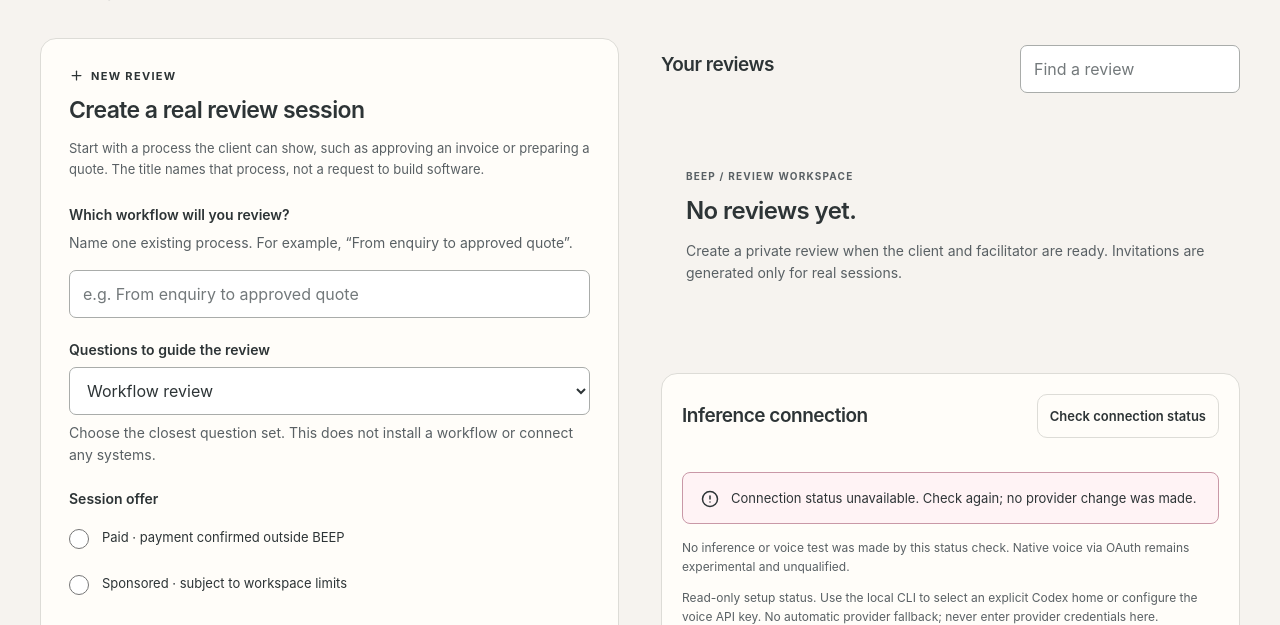
Scenario: private operator actions › requires an explicit paid confirmation, creates via API, and verifies the created session
This screenshot has width=1280, height=625.
In the field labelled "Which workflow will you review?": [330, 294] box 69,270 -> 590,318, type "Quote review"
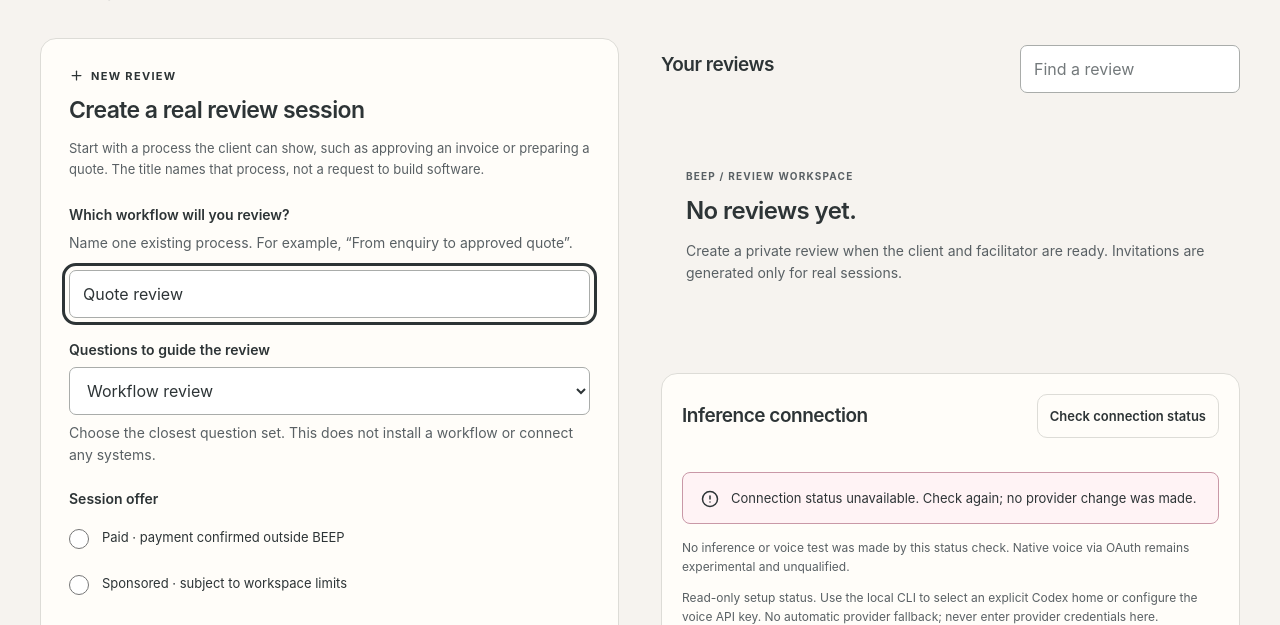
Click the radio button labelled "Paid · payment confirmed outside BEEP": [79, 539] box 69,529 -> 89,549
(page scrolled)
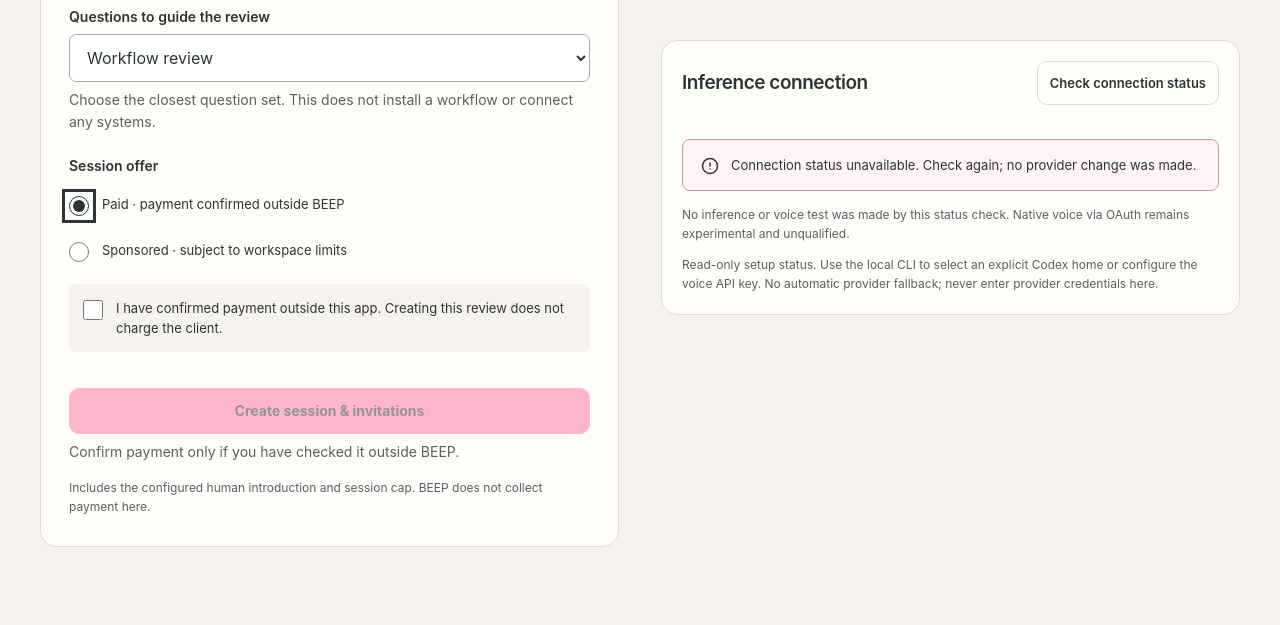
Expected: the button "Create session & invitations" is disabled, 69,388 -> 590,434
Click the checkbox labelled "I have confirmed payment": [93, 310] box 83,300 -> 103,320
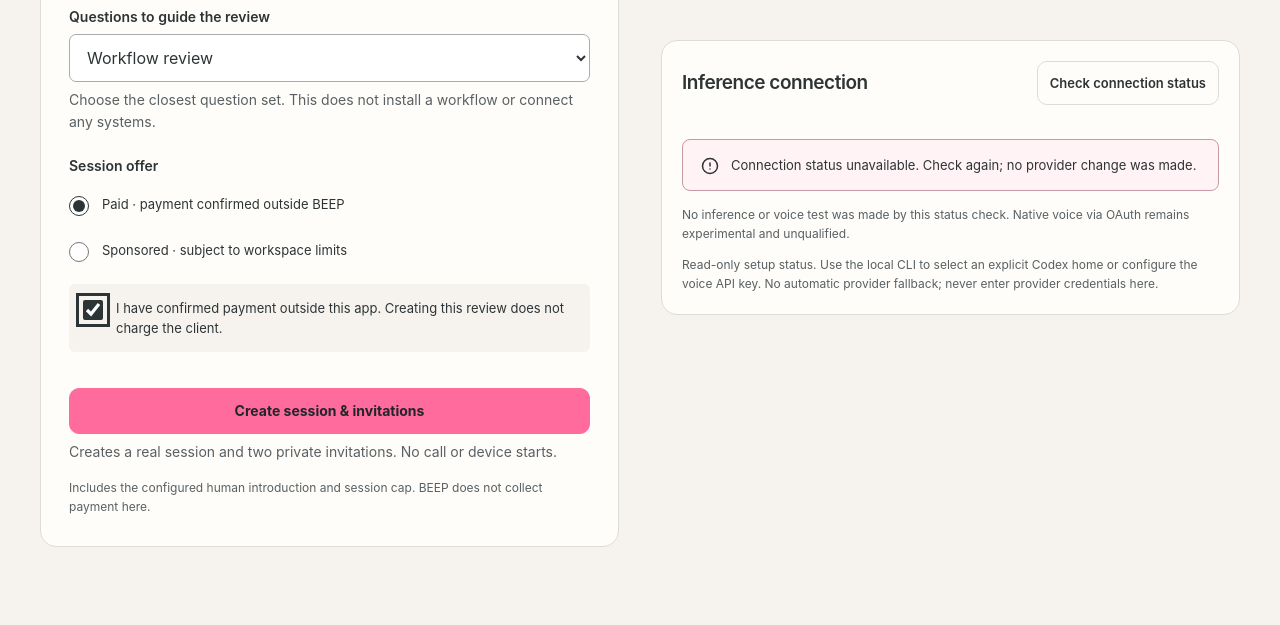
Click the button "Create session & invitations": [330, 411] box 69,388 -> 590,434
(page scrolled)
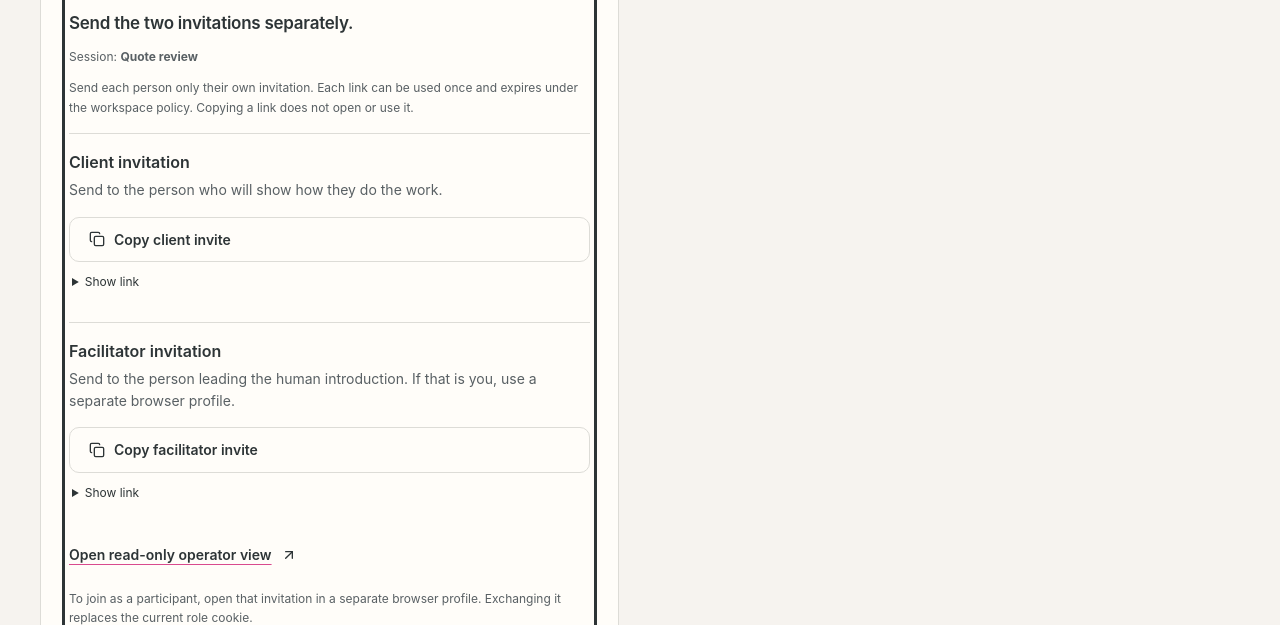
Expected: the heading "Send the two invitations separately." is shown, 69,13 -> 353,33
Expected: the button "Copy client invite" is shown, 69,216 -> 590,262
